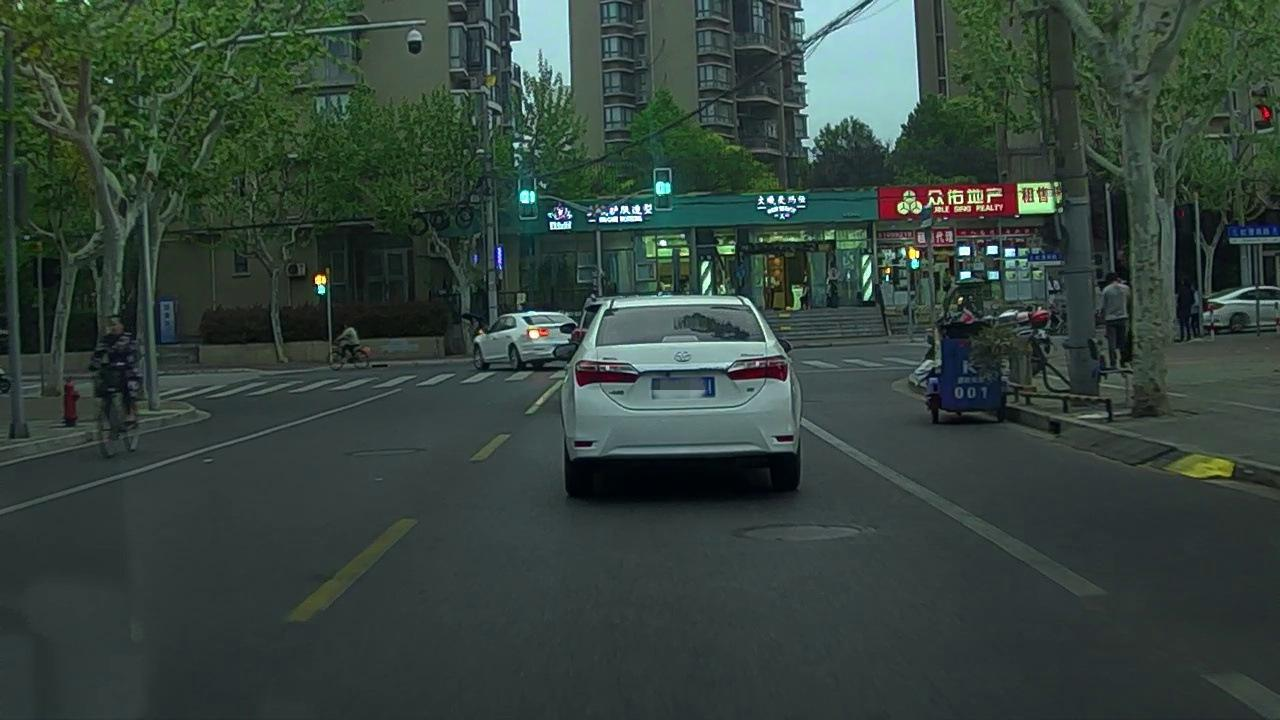traffic_light: (519, 175, 536, 217), (656, 168, 672, 208)
